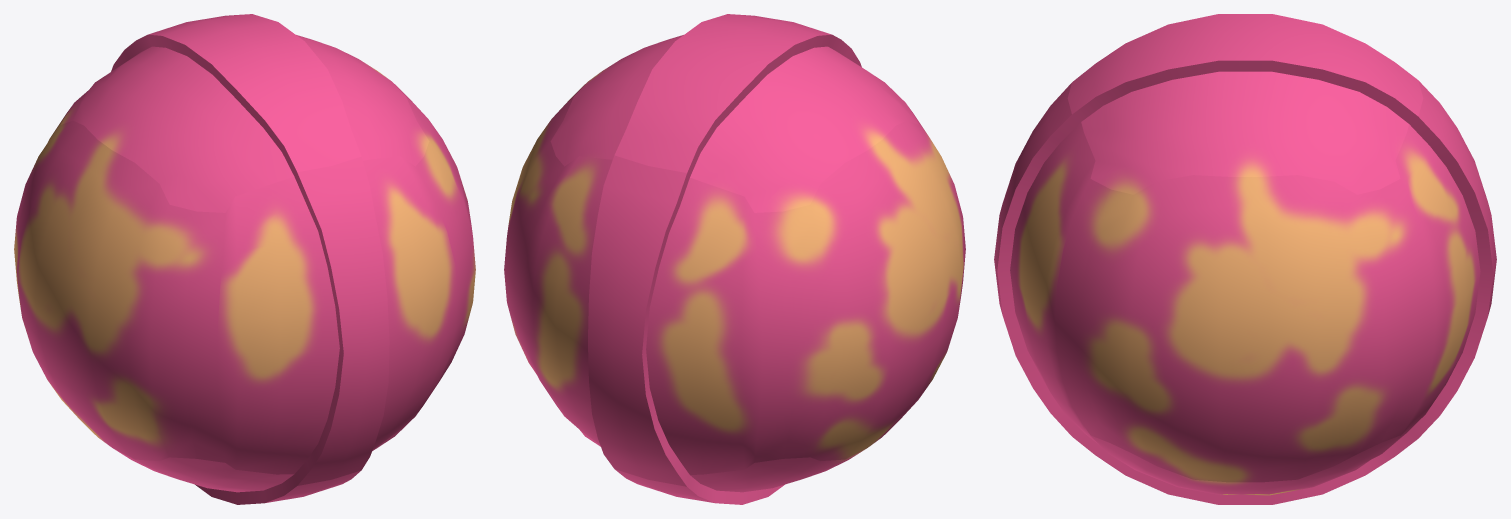
File: bathbomb.fbx
The picture shows the model from 3 angles, left to right: view 1: azimuth 30°, elevation 25°; view 2: azimuth 150°, elevation 25°; view 3: azimuth 270°, elevation 25°; orthographic projection. The views are drawn at different scales.
Parts seen in each view (by area): view 1: pCube1; view 2: pCube1; view 3: pCube1.
Boxes of the visible parts, <box> form: pCube1: <box>14,14,475,504</box>; pCube1: <box>504,14,965,504</box>; pCube1: <box>994,14,1496,504</box>.
Size of the model in its own units: 1.97 by 2.09 by 2.11.
Materials: 1 (1 with a texture image).
